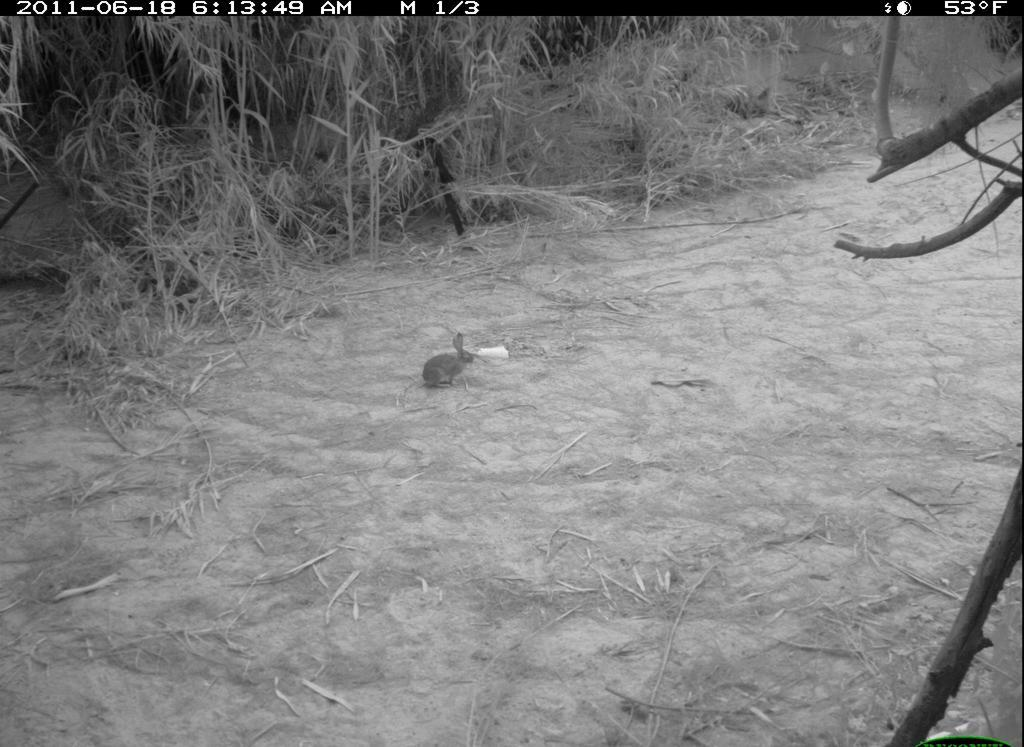rabbit: (414, 333, 486, 395)
